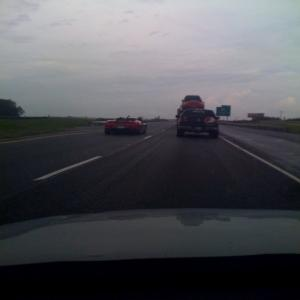Vehicle-registration-plate: (196, 128, 205, 131)
